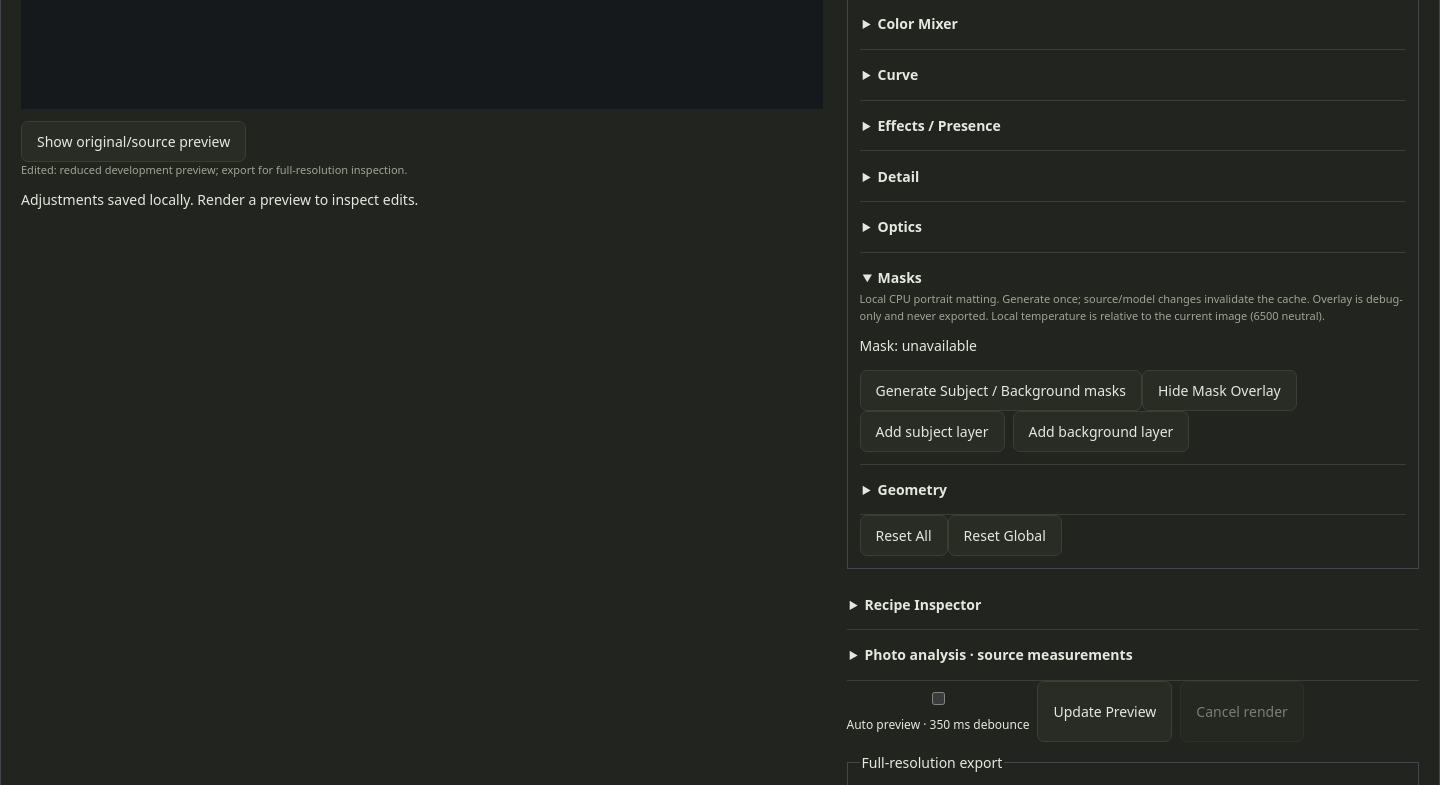
Test: a failed mask remains nonfatal and leaves global export available
(page scrolled)
Expected: the button "Update Preview" is enabled, top-left (1038, 681), bottom-right (1172, 742)
Click the button "Generate Subject / Background masks" at [1001, 391], box top-left (860, 370), bottom-right (1142, 411)
(page scrolled)
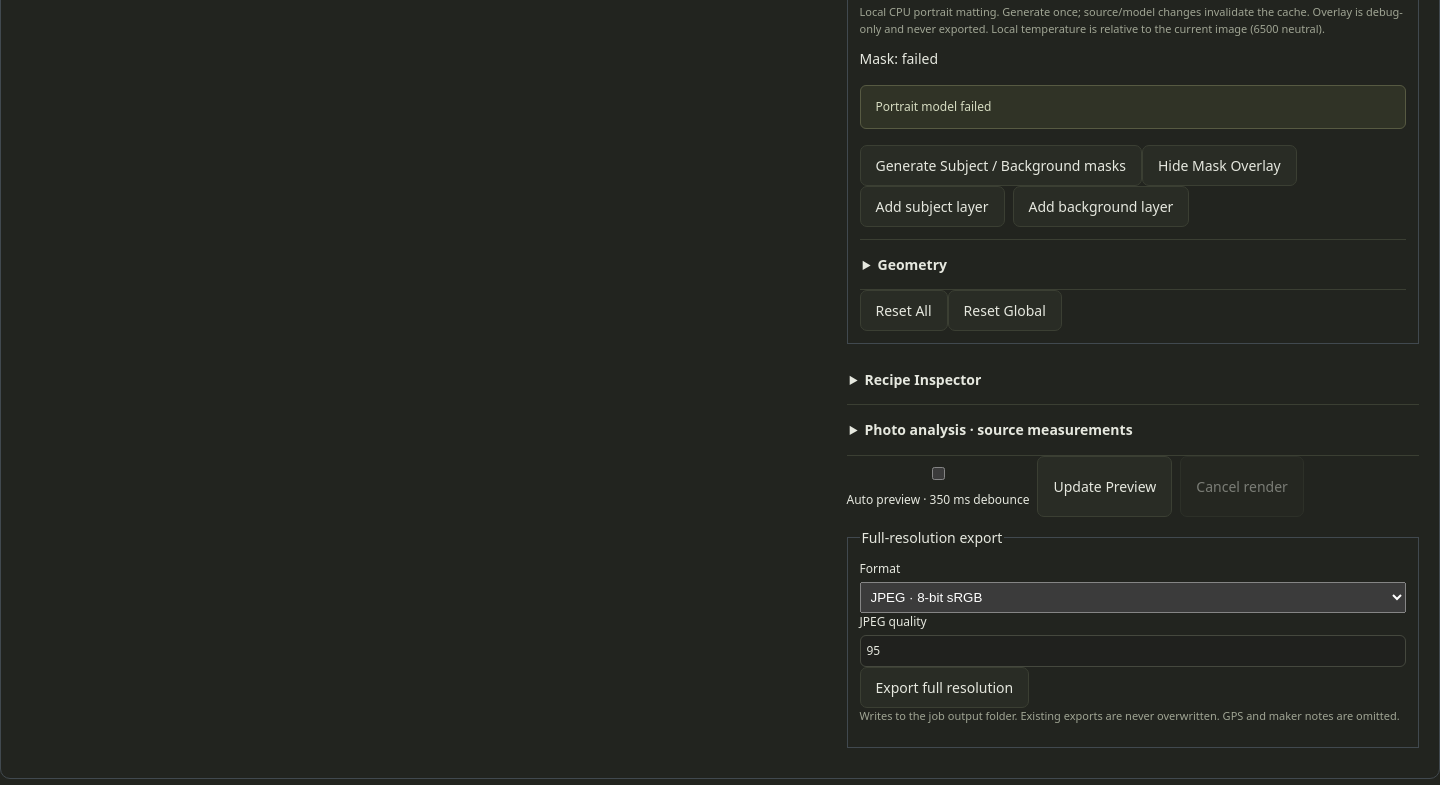
Expected: the button "Export full resolution" is enabled, top-left (860, 667), bottom-right (1029, 708)
Now the text "Portrait model failed" is shown, box top-left (860, 85), bottom-right (1406, 129)
